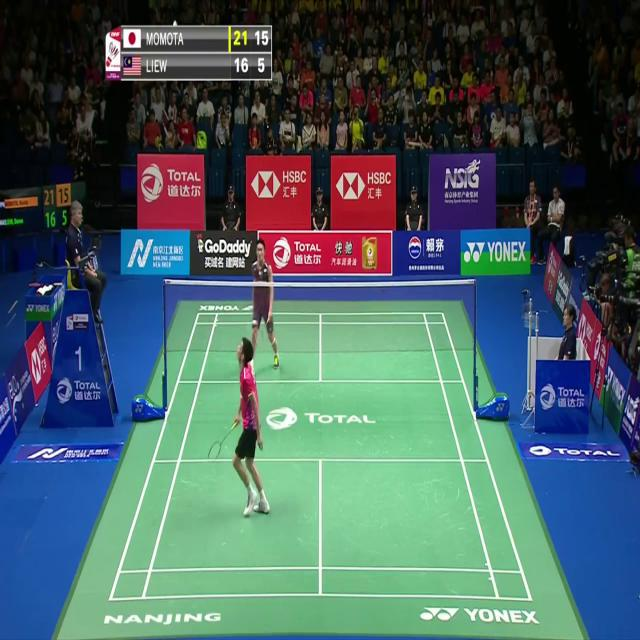Shuttlecock: (172, 15, 178, 26)
